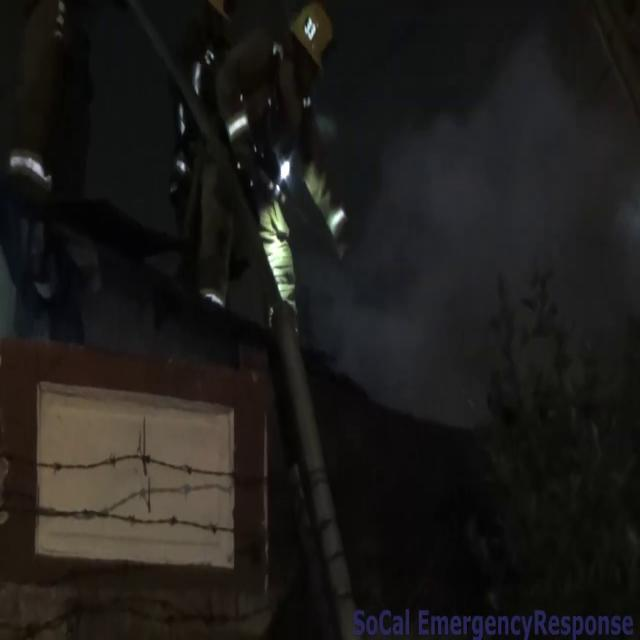Smoke: (330, 2, 640, 492)
